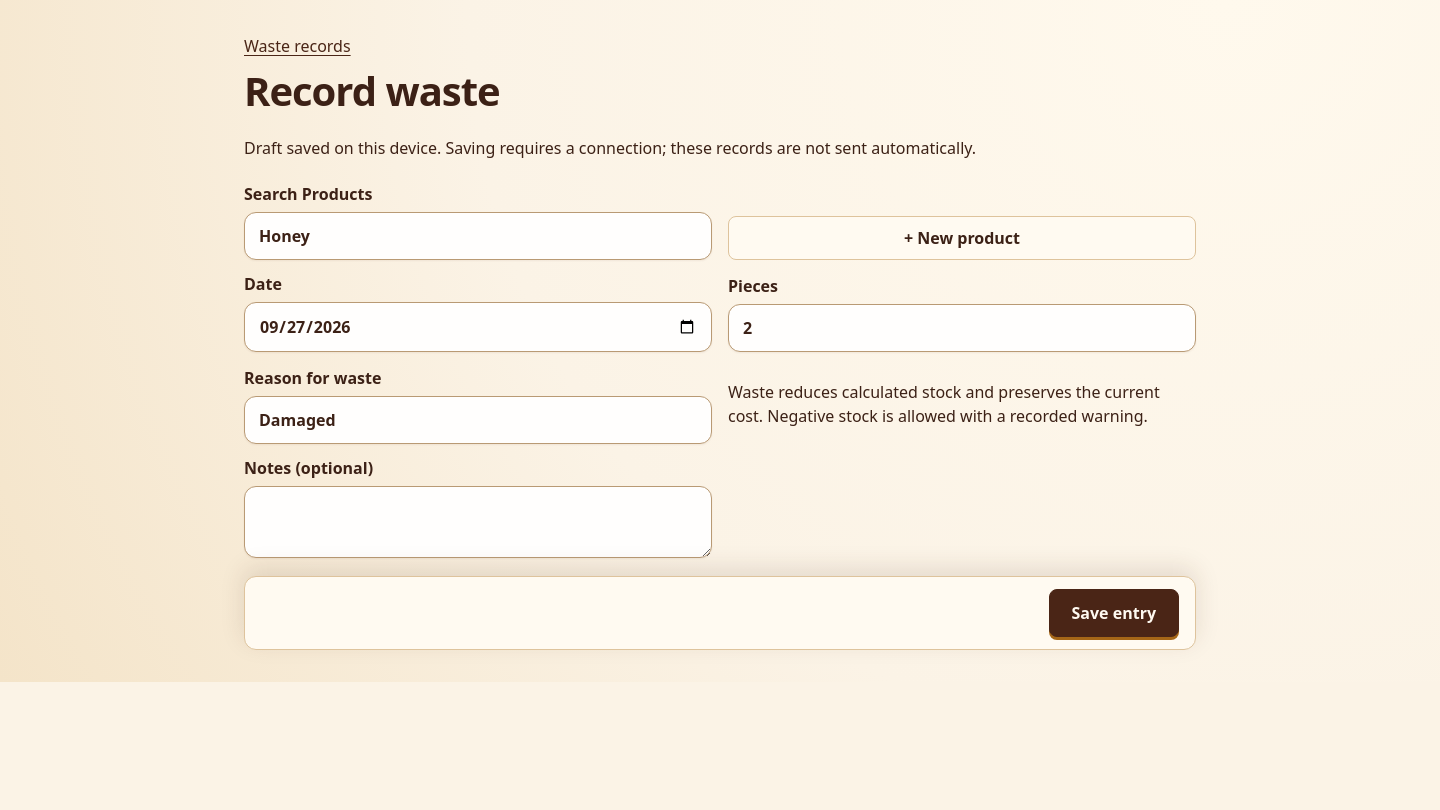
Test case: waste validation preserves quantity and reason and unlocks editing
The width and height of the screenshot is (1440, 810).
Step 1. Click the button "Save entry" → (1114, 613), box [1048,589,1179,637]
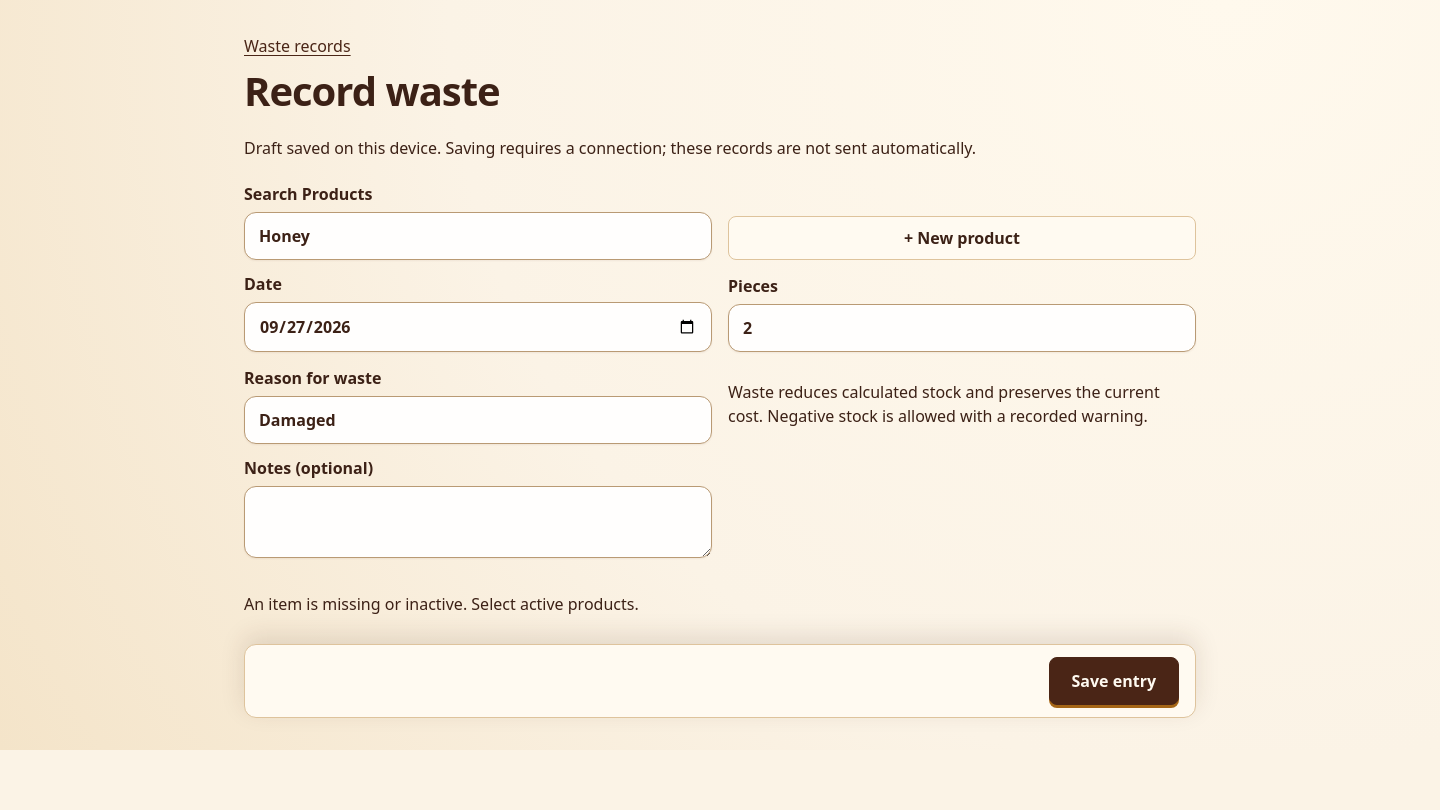
Expected: the field labelled "Pieces" is enabled, [728,304,1196,352]
Now the message "An item is missing or inactive. Select active products." is shown, box [244,593,639,615]
